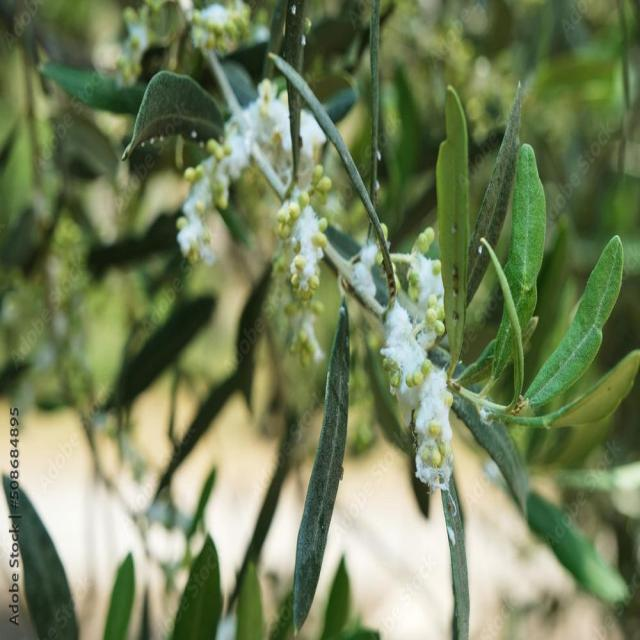Psyllid: (177, 80, 291, 264), (380, 298, 457, 516), (273, 166, 331, 373), (392, 227, 444, 337), (168, 0, 251, 56), (342, 227, 383, 316)
